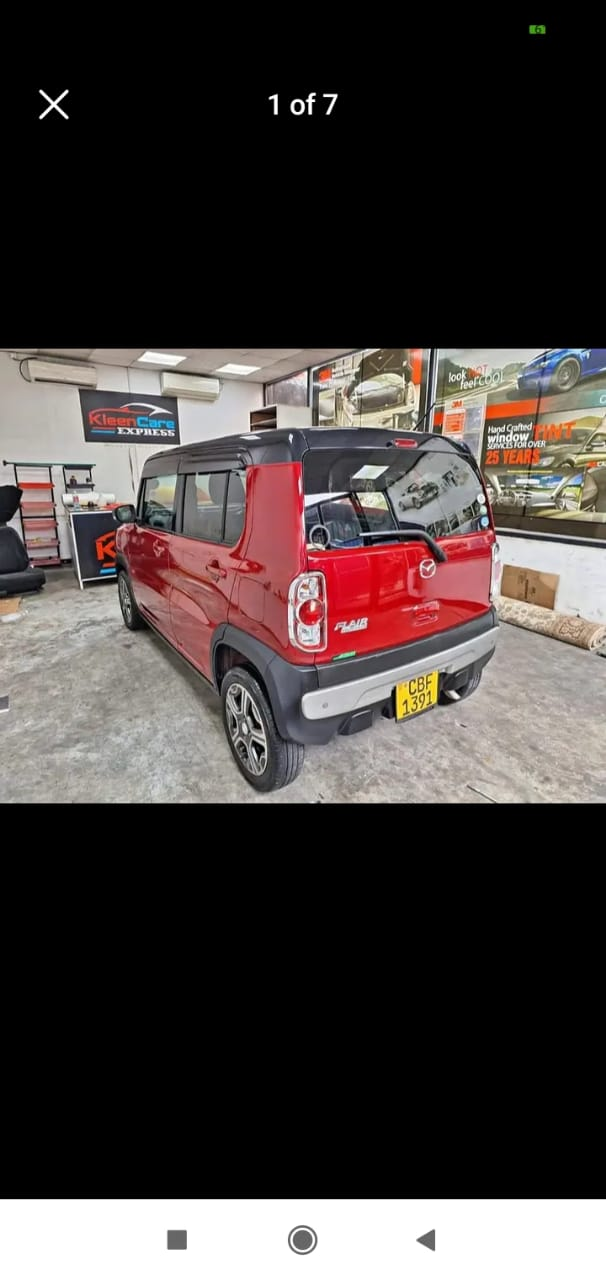number_plate: (395, 668, 449, 716)
